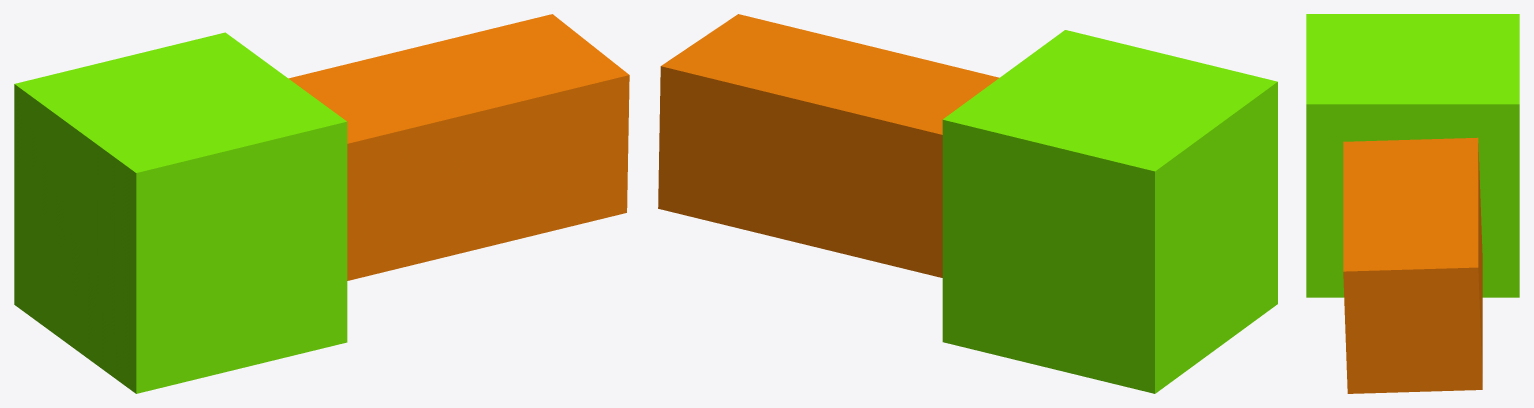
The model's file is mCube.glb.
3 views of the same model, side by side, from view 1: azimuth 30°, elevation 25°; view 2: azimuth 150°, elevation 25°; view 3: azimuth 270°, elevation 25° (orthographic). The views are drawn at different scales.
Parts seen in each view (by area): view 1: Cube, Cube.1; view 2: Cube, Cube.1; view 3: Cube, Cube.1.
Boxes of the visible parts, box(x1,y1,x2,y2) form: Cube: box(14, 32, 347, 393); Cube.1: box(288, 14, 629, 280); Cube: box(942, 30, 1277, 393); Cube.1: box(658, 14, 999, 277); Cube: box(1306, 14, 1519, 297); Cube.1: box(1343, 137, 1482, 393).
Size of the model in its own units: 174 by 71.2 by 71.2.
